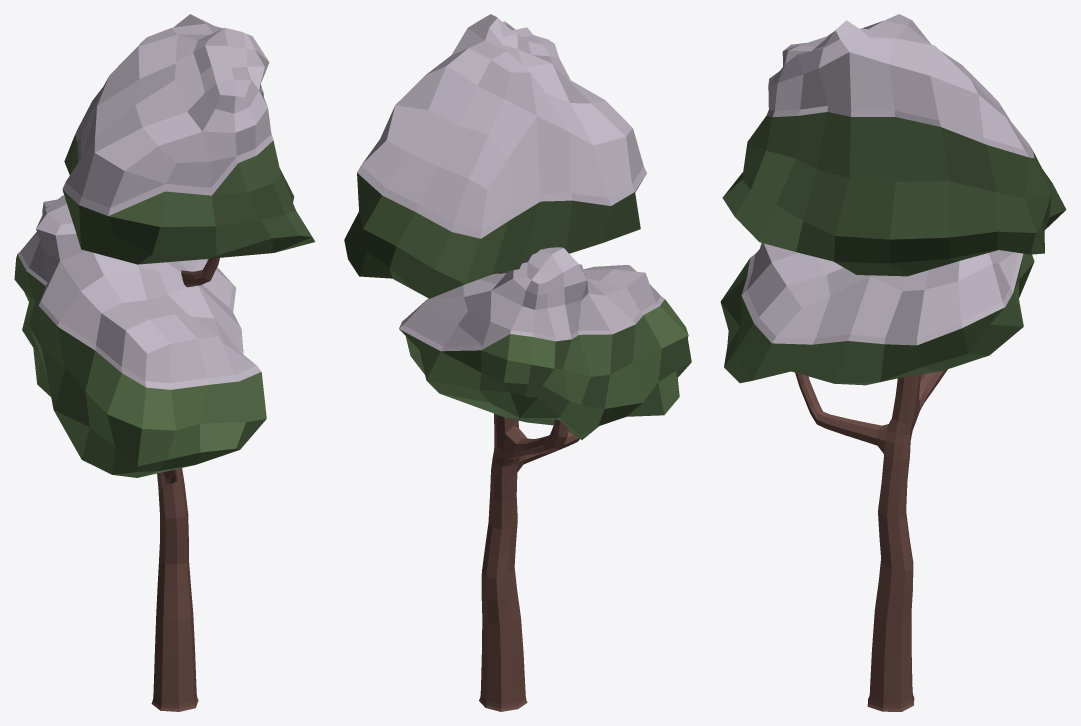
File: commontree_snow.glb
3 views of the same model, side by side, from view 1: azimuth 30°, elevation 25°; view 2: azimuth 150°, elevation 25°; view 3: azimuth 270°, elevation 25° (orthographic). The views are drawn at different scales.
Parts seen in each view (by area): view 1: CommonTree_Snow_3; view 2: CommonTree_Snow_3; view 3: CommonTree_Snow_3.
Part boxes in pixels (x1,y1,x2,y2): CommonTree_Snow_3: (14,14,315,711); CommonTree_Snow_3: (344,14,691,711); CommonTree_Snow_3: (720,14,1066,711).
Bounding box in the file's own units: 1.28 × 3.47 × 1.56.
